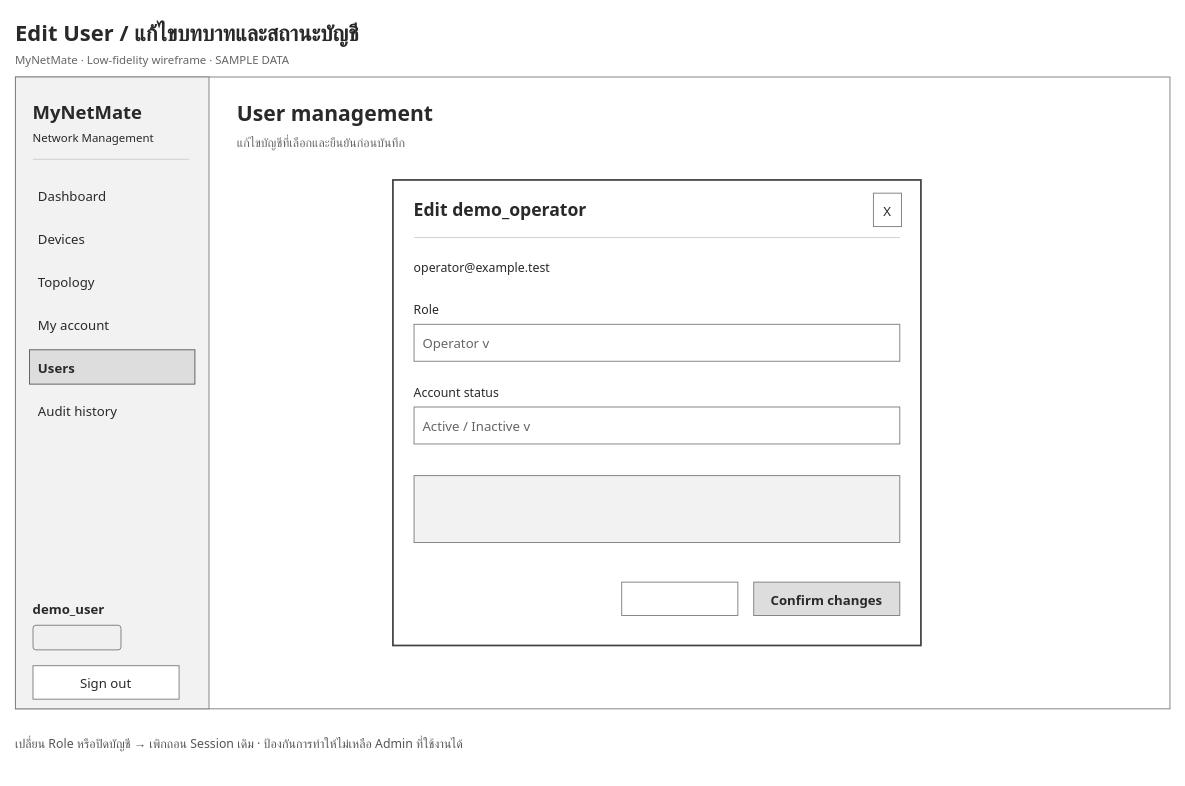
This 1185x786 diagram has some shape labels left out. Here are the shapes that lost their labels. From the top down, the box of each, then its label:
(413, 475, 900, 543): Confirm changes การเปลี่ยน Role หรือปิดบัญชีจะเพิกถอน Session เดิม
(621, 581, 738, 616): Cancel
(32, 624, 121, 650): Admin
